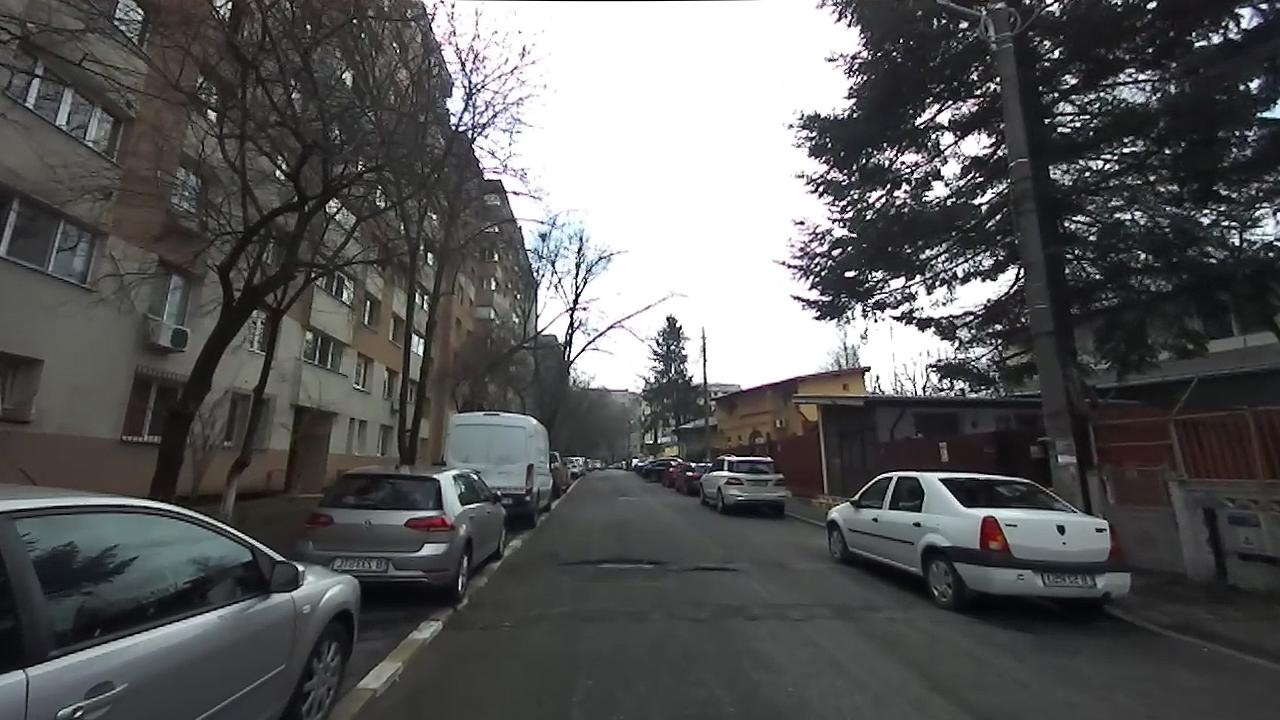pothole: (554, 555, 667, 575), (672, 563, 740, 577)
